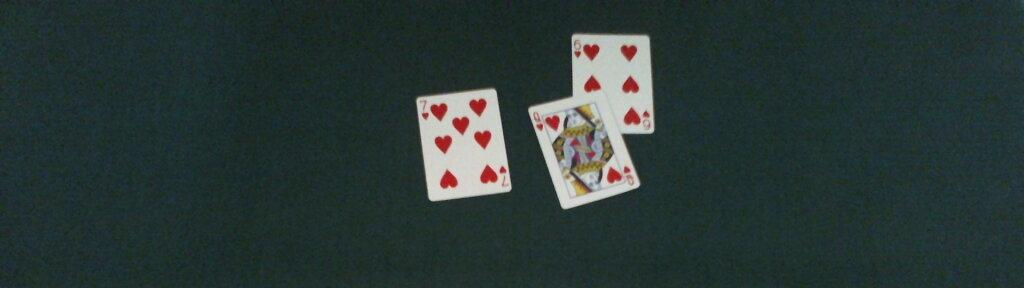queen: (528, 92, 641, 210)
seven: (417, 87, 512, 201)
six: (570, 34, 655, 135)
